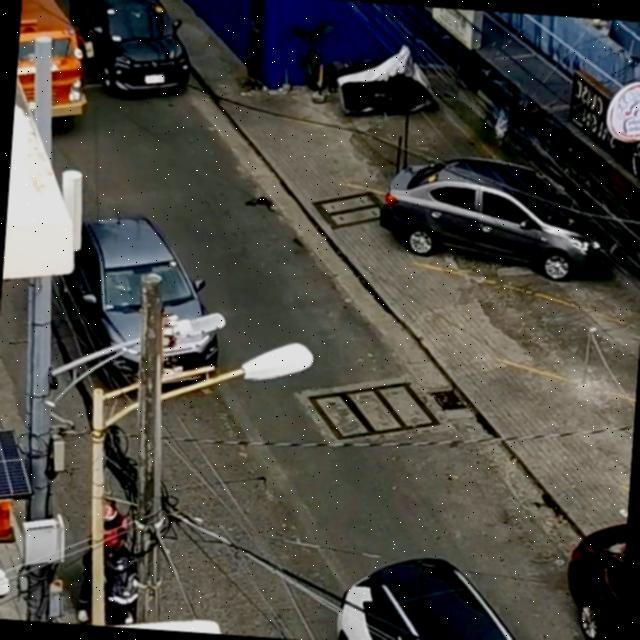Truck: (13, 0, 98, 120)
